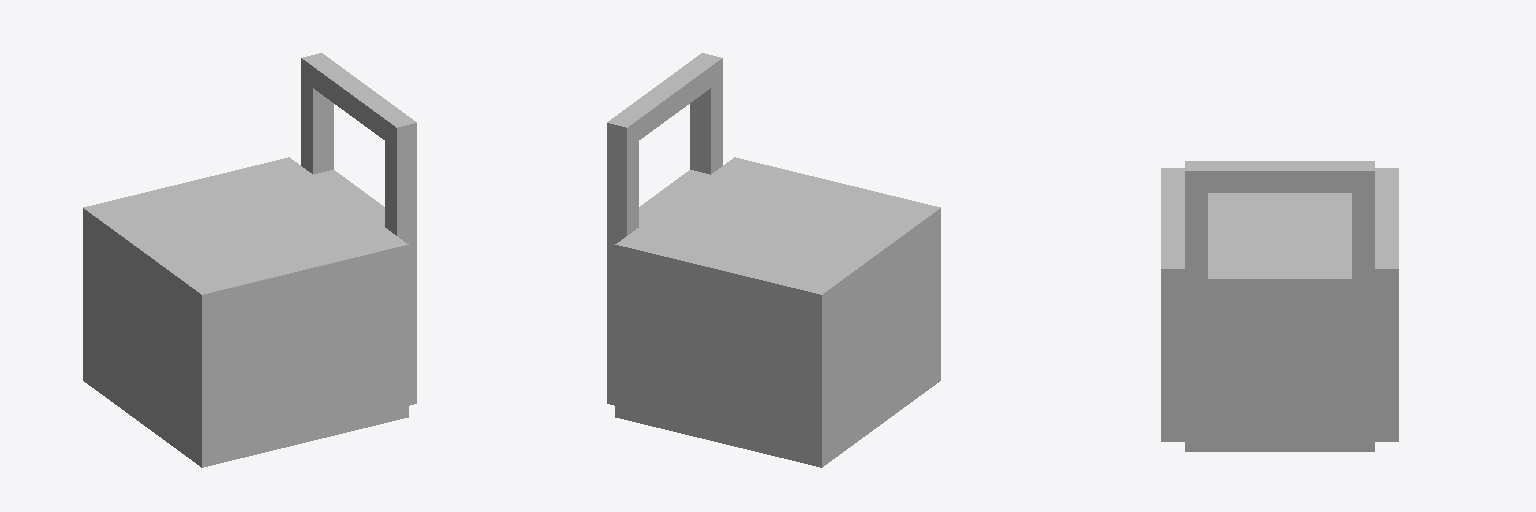
3 views of the same model, side by side, from view 1: azimuth 30°, elevation 25°; view 2: azimuth 150°, elevation 25°; view 3: azimuth 270°, elevation 25° (orthographic).
Visible parts, largest first — view 1: entity0_brush0, entity0_brush4, entity0_brush3, entity0_brush1, entity0_brush2; view 2: entity0_brush0, entity0_brush4, entity0_brush2, entity0_brush1, entity0_brush3; view 3: entity0_brush1, entity0_brush0, entity0_brush4, entity0_brush2, entity0_brush3.
Part boxes in pixels (left/top/right/bottom): entity0_brush0: left=83, top=157, right=408, bottom=467; entity0_brush4: left=301, top=53, right=416, bottom=148; entity0_brush3: left=385, top=141, right=416, bottom=235; entity0_brush1: left=314, top=170, right=416, bottom=405; entity0_brush2: left=301, top=80, right=333, bottom=174; entity0_brush0: left=615, top=157, right=940, bottom=467; entity0_brush4: left=607, top=53, right=722, bottom=148; entity0_brush2: left=607, top=141, right=638, bottom=235; entity0_brush1: left=607, top=170, right=709, bottom=405; entity0_brush3: left=690, top=80, right=722, bottom=174; entity0_brush1: left=1185, top=269, right=1374, bottom=451; entity0_brush0: left=1161, top=168, right=1398, bottom=441; entity0_brush4: left=1185, top=161, right=1374, bottom=192; entity0_brush2: left=1352, top=193, right=1374, bottom=278; entity0_brush3: left=1185, top=193, right=1207, bottom=278.
Size of the model in its own units: 11 by 13 by 10.